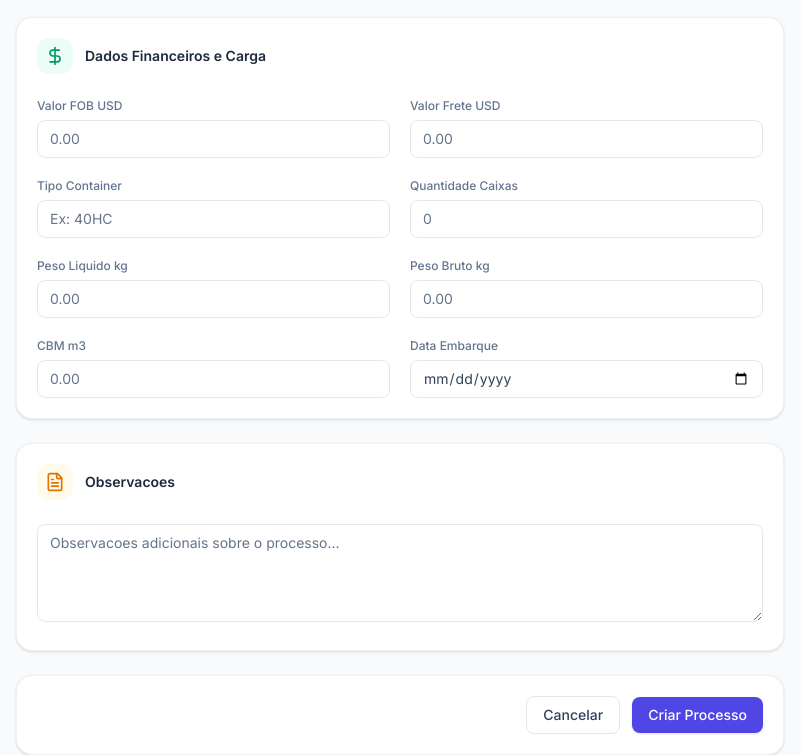
Test: ProcessCreatePage › shows validation error when processCode is empty on submit
(page scrolled)
# Find and click submit button
Click the button "Criar Processo" at (698,715), box [632,697,763,733]
(page scrolled)
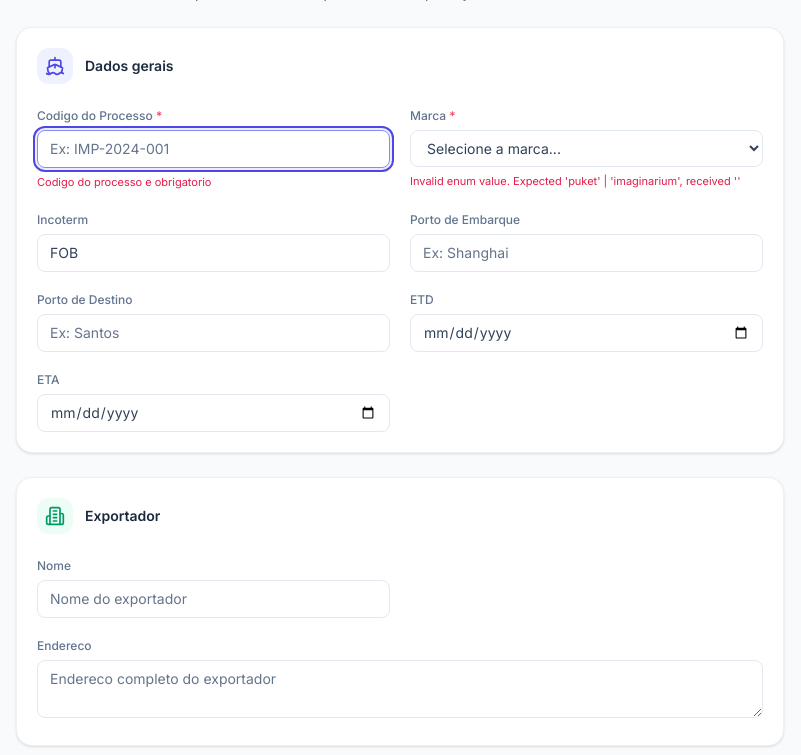
Now the text "Codigo do processo e obrigatorio" is shown, box [37,175,212,189]
